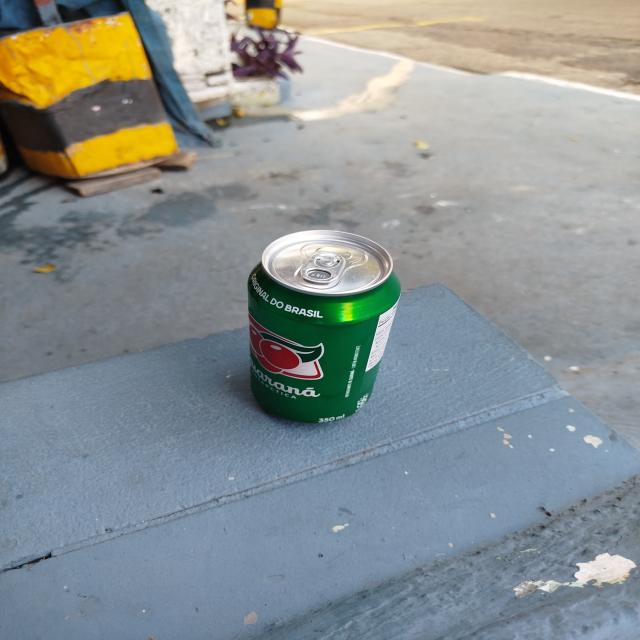Guarana: (245, 231, 404, 419)
